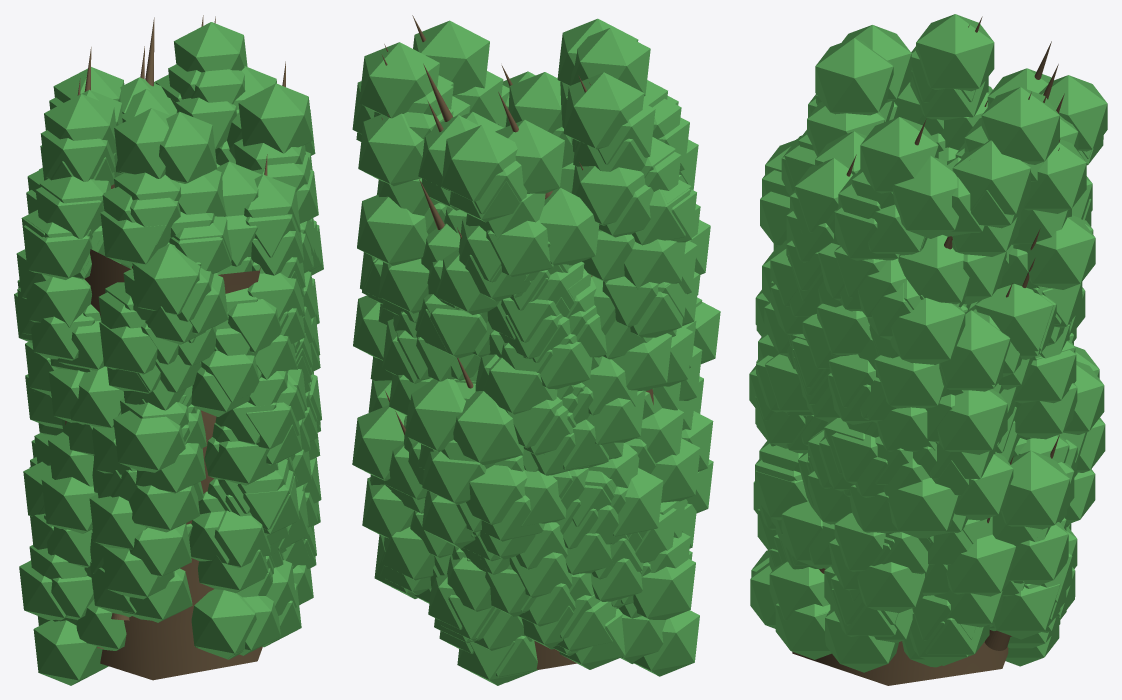
File: tree_var_3649.glb
The picture shows the model from 3 angles, left to right: view 1: azimuth 30°, elevation 25°; view 2: azimuth 150°, elevation 25°; view 3: azimuth 270°, elevation 25°; orthographic projection. The views are drawn at different scales.
Parts seen in each view (by area): view 1: tree_var_3649; view 2: tree_var_3649; view 3: tree_var_3649.
Part boxes in pixels (x1,y1,x2,y2): tree_var_3649: (14, 15, 323, 685); tree_var_3649: (352, 15, 720, 685); tree_var_3649: (749, 14, 1107, 685).
Size of the model in its own units: 3.01 by 5.72 by 2.92.
